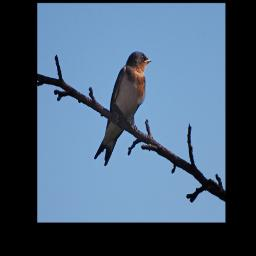Swallow: (94, 51, 152, 166)
